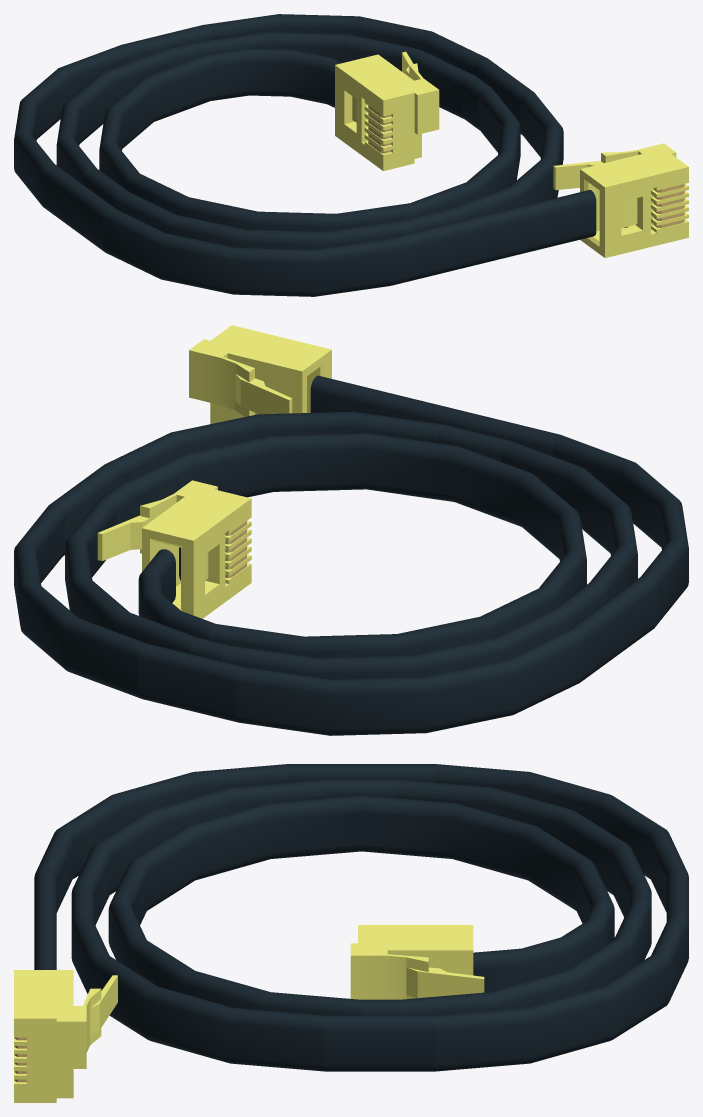
3 renders of one model, top to bottom at view 1: azimuth 30°, elevation 25°; view 2: azimuth 150°, elevation 25°; view 3: azimuth 270°, elevation 25°, orthographic. The views are drawn at different scales.
Parts seen in each view (by area): view 1: 55806.dat, 933.dat (×2), 932.dat (×8), 933c01.dat (×2); view 2: 55806.dat, 932.dat (×8), 933.dat (×2); view 3: 55806.dat, 933.dat (×2), 932.dat (×7).
Part boxes in pixels (x1=…): 55806.dat: x1=14, y1=14, x2=563, y2=296; 933.dat (×2): x1=335, y1=51, x2=688, y2=257; 932.dat (×8): x1=40, y1=25, x2=596, y2=285; 933c01.dat (×2): x1=368, y1=105, x2=684, y2=228; 55806.dat: x1=14, y1=411, x2=688, y2=735; 932.dat (×8): x1=49, y1=375, x2=656, y2=722; 933.dat (×2): x1=97, y1=325, x2=331, y2=618; 55806.dat: x1=36, y1=764, x2=688, y2=1071; 933.dat (×2): x1=14, y1=925, x2=484, y2=1102; 932.dat (×7): x1=34, y1=764, x2=688, y2=1071.
Size of the model in its own units: 0.0704 by 0.01 by 0.0726.
